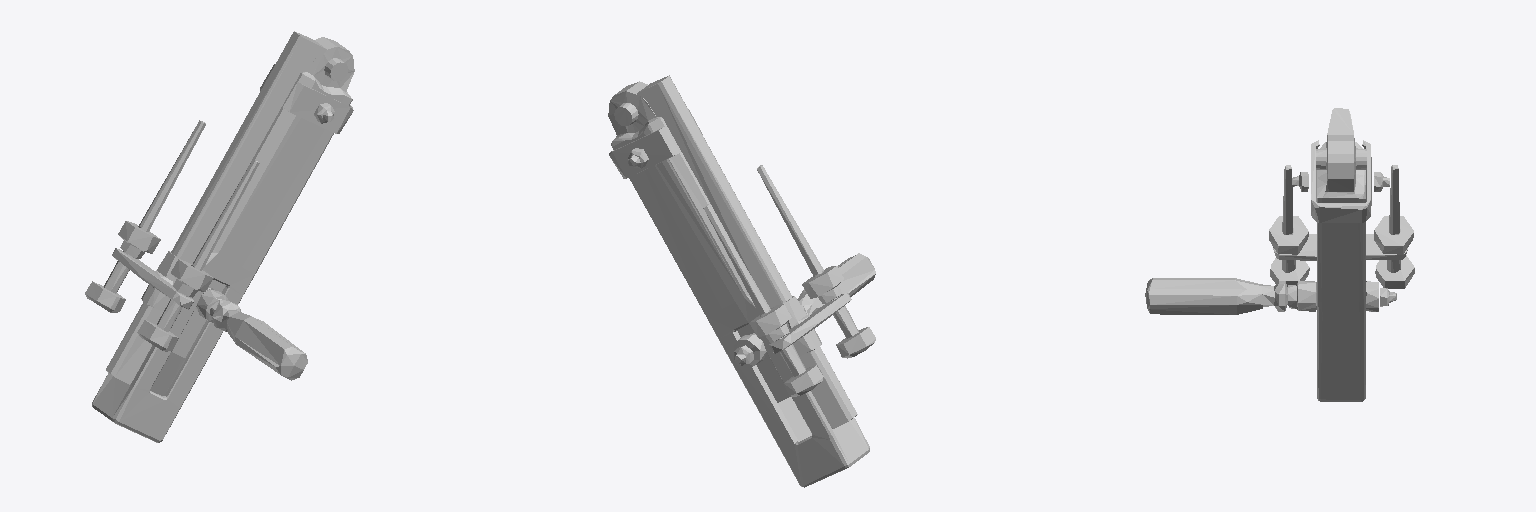
File: DBGun.obj
The picture shows the model from 3 angles: view 1: azimuth 30°, elevation 25°; view 2: azimuth 150°, elevation 25°; view 3: azimuth 270°, elevation 25°; orthographic projection.
Parts seen in each view (by area): view 1: Mesh_0117.rip; view 2: Mesh_0117.rip; view 3: Mesh_0117.rip.
Part boxes in pixels (bbox=[...]): Mesh_0117.rip: bbox=[85, 31, 354, 442]; Mesh_0117.rip: bbox=[608, 75, 875, 487]; Mesh_0117.rip: bbox=[1145, 108, 1414, 401].
Size of the model in its own units: 0.1927 by 0.2744 by 0.1833.